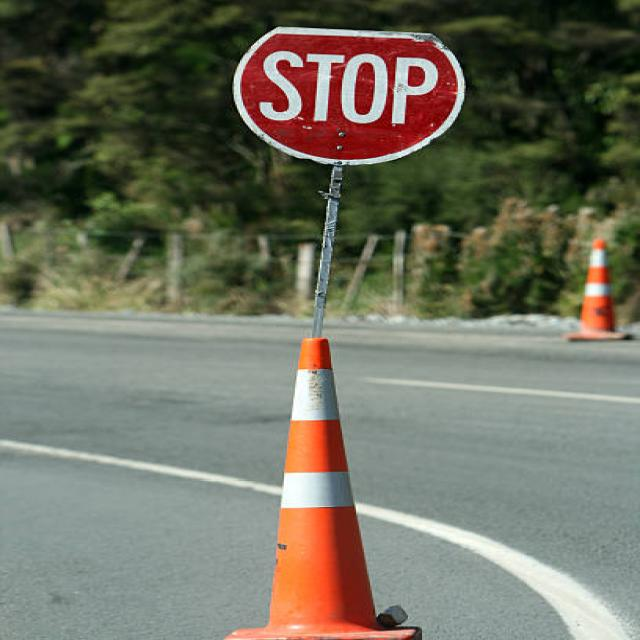Traffic Cone: (193, 315, 440, 640)
